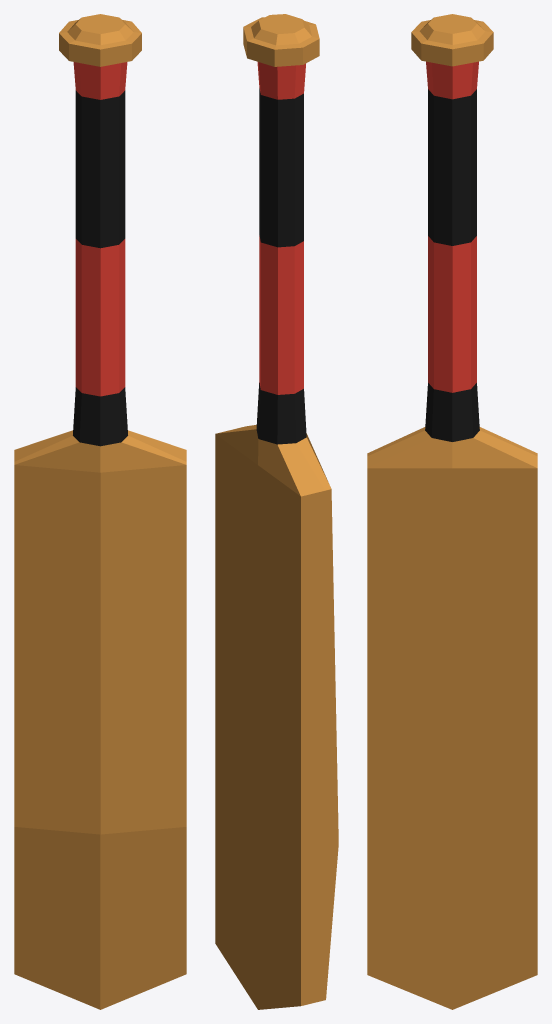
The model's file is Cricket_Bat_01.obj.
3 renders of one model, left to right at view 1: azimuth 90°, elevation 25°; view 2: azimuth 210°, elevation 25°; view 3: azimuth 270°, elevation 25°, orthographic.
Parts seen in each view (by area): view 1: Cube_Cube.027; view 2: Cube_Cube.027; view 3: Cube_Cube.027.
Boxes of the visible parts, left/top/right/bottom form: Cube_Cube.027: left=14, top=14, right=186, bottom=1009; Cube_Cube.027: left=215, top=14, right=338, bottom=1009; Cube_Cube.027: left=367, top=14, right=537, bottom=1009.
Size of the model in its own units: 1.12 by 15.24 by 2.42.
